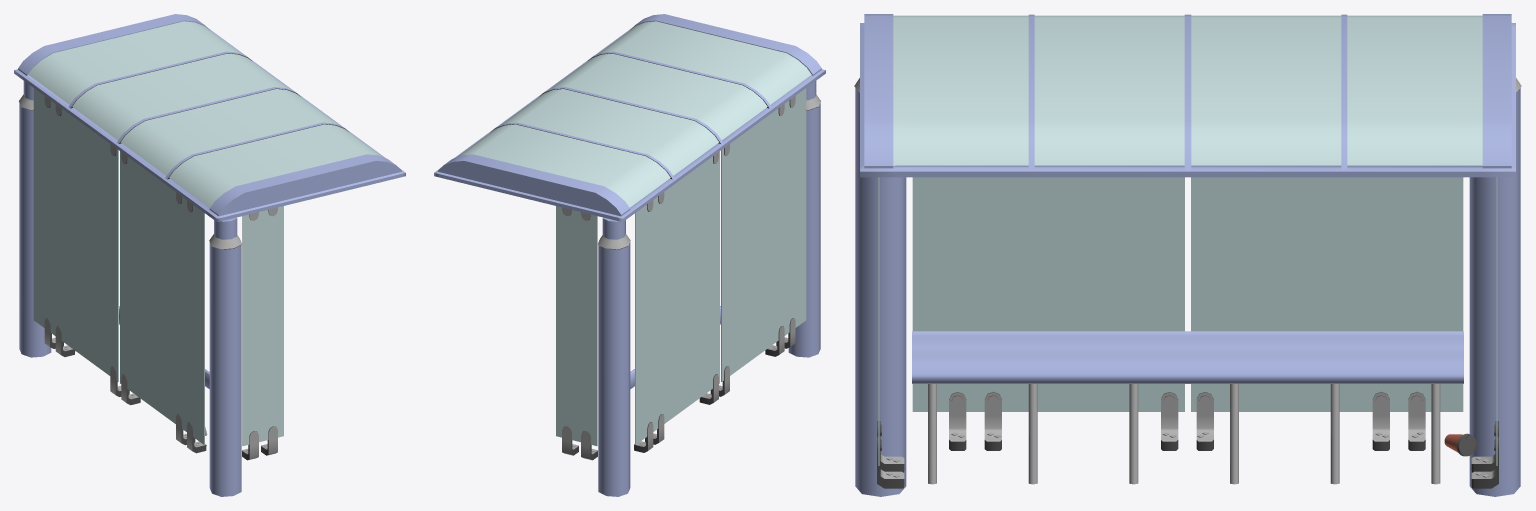
File: BusShelter.fbx
3 renders of one model, left to right at view 1: azimuth 30°, elevation 25°; view 2: azimuth 150°, elevation 25°; view 3: azimuth 270°, elevation 25°, orthographic. The views are drawn at different scales.
Visible parts, largest first — view 1: RoofWindow, Panel_Back_1, Panel_Back_2, Pillar, RoofFrame, Panel_Side, RoofStruts, Panel_BottomClips_Back, Panel_BottomClips_Side; view 2: RoofWindow, Panel_Back_2, Panel_Back_1, Pillar, RoofFrame, Panel_Side, RoofStruts, Panel_BottomClips_Back, Panel_BottomClips_Side; view 3: RoofWindow, Panel_Back_1, Panel_Back_2, Pillar, Seat, RoofFrame, Panel_BottomClips_Back, SeatPillars, RoofStruts, Panel_BottomClips_Side, Panel_Side.
Boxes of the visible parts, box(x1,y1,x2,y2) form: RoofWindow: box(28, 21, 382, 207); Panel_Back_1: box(33, 88, 118, 381); Panel_Back_2: box(120, 151, 204, 444); Pillar: box(19, 81, 241, 496); RoofFrame: box(14, 14, 405, 222); Panel_Side: box(242, 206, 283, 445); RoofStruts: box(68, 51, 348, 179); Panel_BottomClips_Back: box(44, 318, 206, 453); Panel_BottomClips_Side: box(242, 426, 277, 460); RoofWindow: box(457, 21, 811, 207); Panel_Back_2: box(721, 88, 806, 381); Panel_Back_1: box(635, 151, 719, 444); Pillar: box(598, 81, 820, 496); RoofFrame: box(434, 14, 825, 222); Panel_Side: box(556, 206, 597, 445); RoofStruts: box(491, 51, 771, 179); Panel_BottomClips_Back: box(634, 318, 795, 452); Panel_BottomClips_Side: box(562, 426, 597, 460); RoofWindow: box(893, 15, 1482, 165); Panel_Back_1: box(1191, 177, 1463, 411); Panel_Back_2: box(912, 177, 1184, 411); Pillar: box(854, 78, 1521, 496); Seat: box(912, 331, 1463, 383); RoofFrame: box(860, 14, 1515, 177); Panel_BottomClips_Back: box(949, 391, 1425, 450); SeatPillars: box(928, 384, 1440, 484); RoofStruts: box(1028, 14, 1347, 169); Panel_BottomClips_Side: box(877, 421, 1498, 488); Panel_Side: box(878, 177, 1497, 465).
Bounding box in the file's own units: 412 × 621 × 782.
